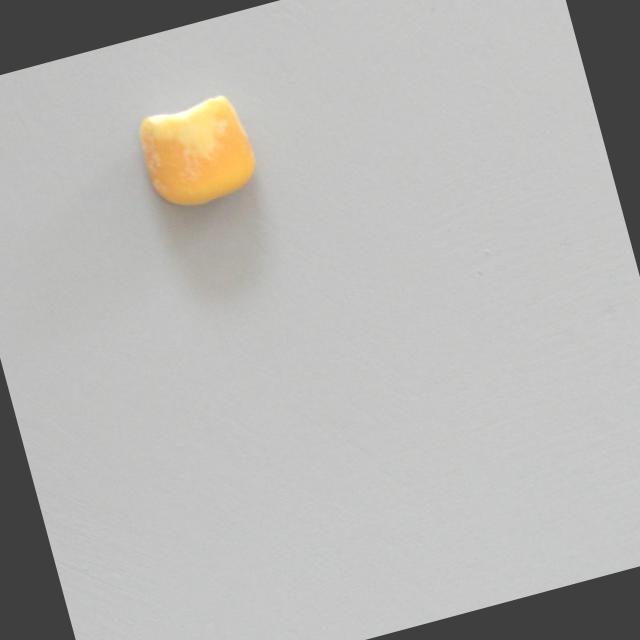pelicula: (130, 88, 264, 219)
